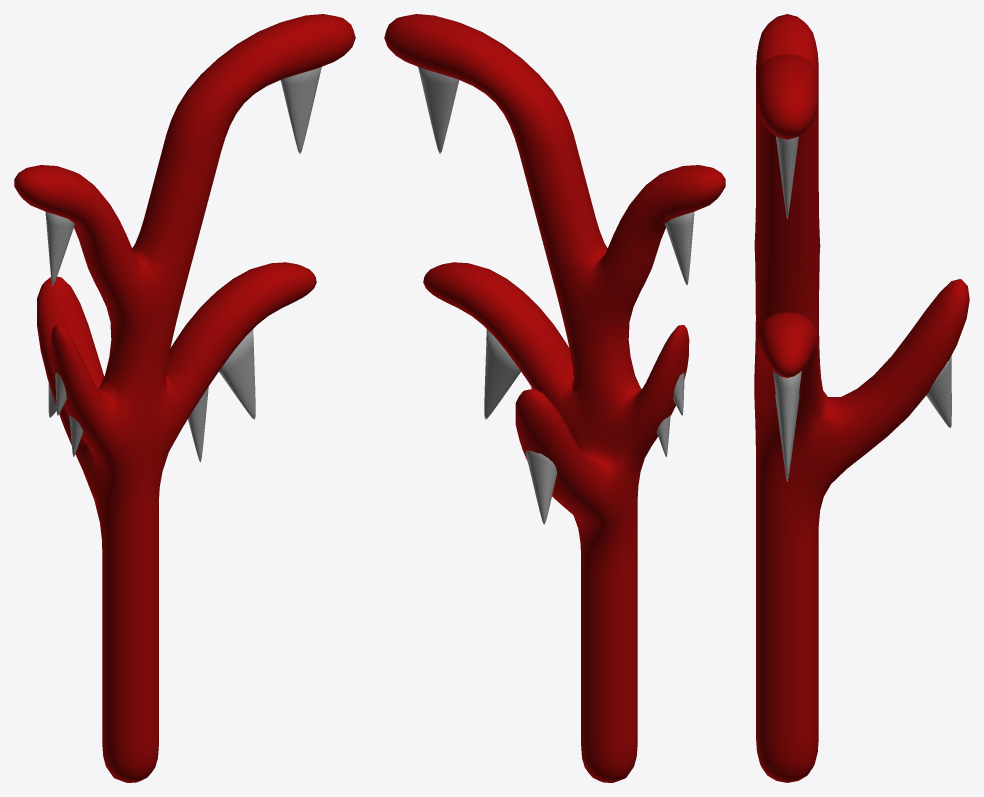
Rendered from mars-tree-00.obj.
3 views of the same model, side by side, from view 1: azimuth 30°, elevation 25°; view 2: azimuth 150°, elevation 25°; view 3: azimuth 270°, elevation 25° (orthographic). The views are drawn at different scales.
Parts seen in each view (by area): view 1: Tree.000_Cube.074; view 2: Tree.000_Cube.074; view 3: Tree.000_Cube.074.
Part boxes in pixels (bbox=[...]): Tree.000_Cube.074: bbox=[14, 14, 355, 782]; Tree.000_Cube.074: bbox=[384, 14, 725, 782]; Tree.000_Cube.074: bbox=[754, 14, 969, 782].
Bounding box in the file's own units: 1.3 × 2.64 × 0.6433.
